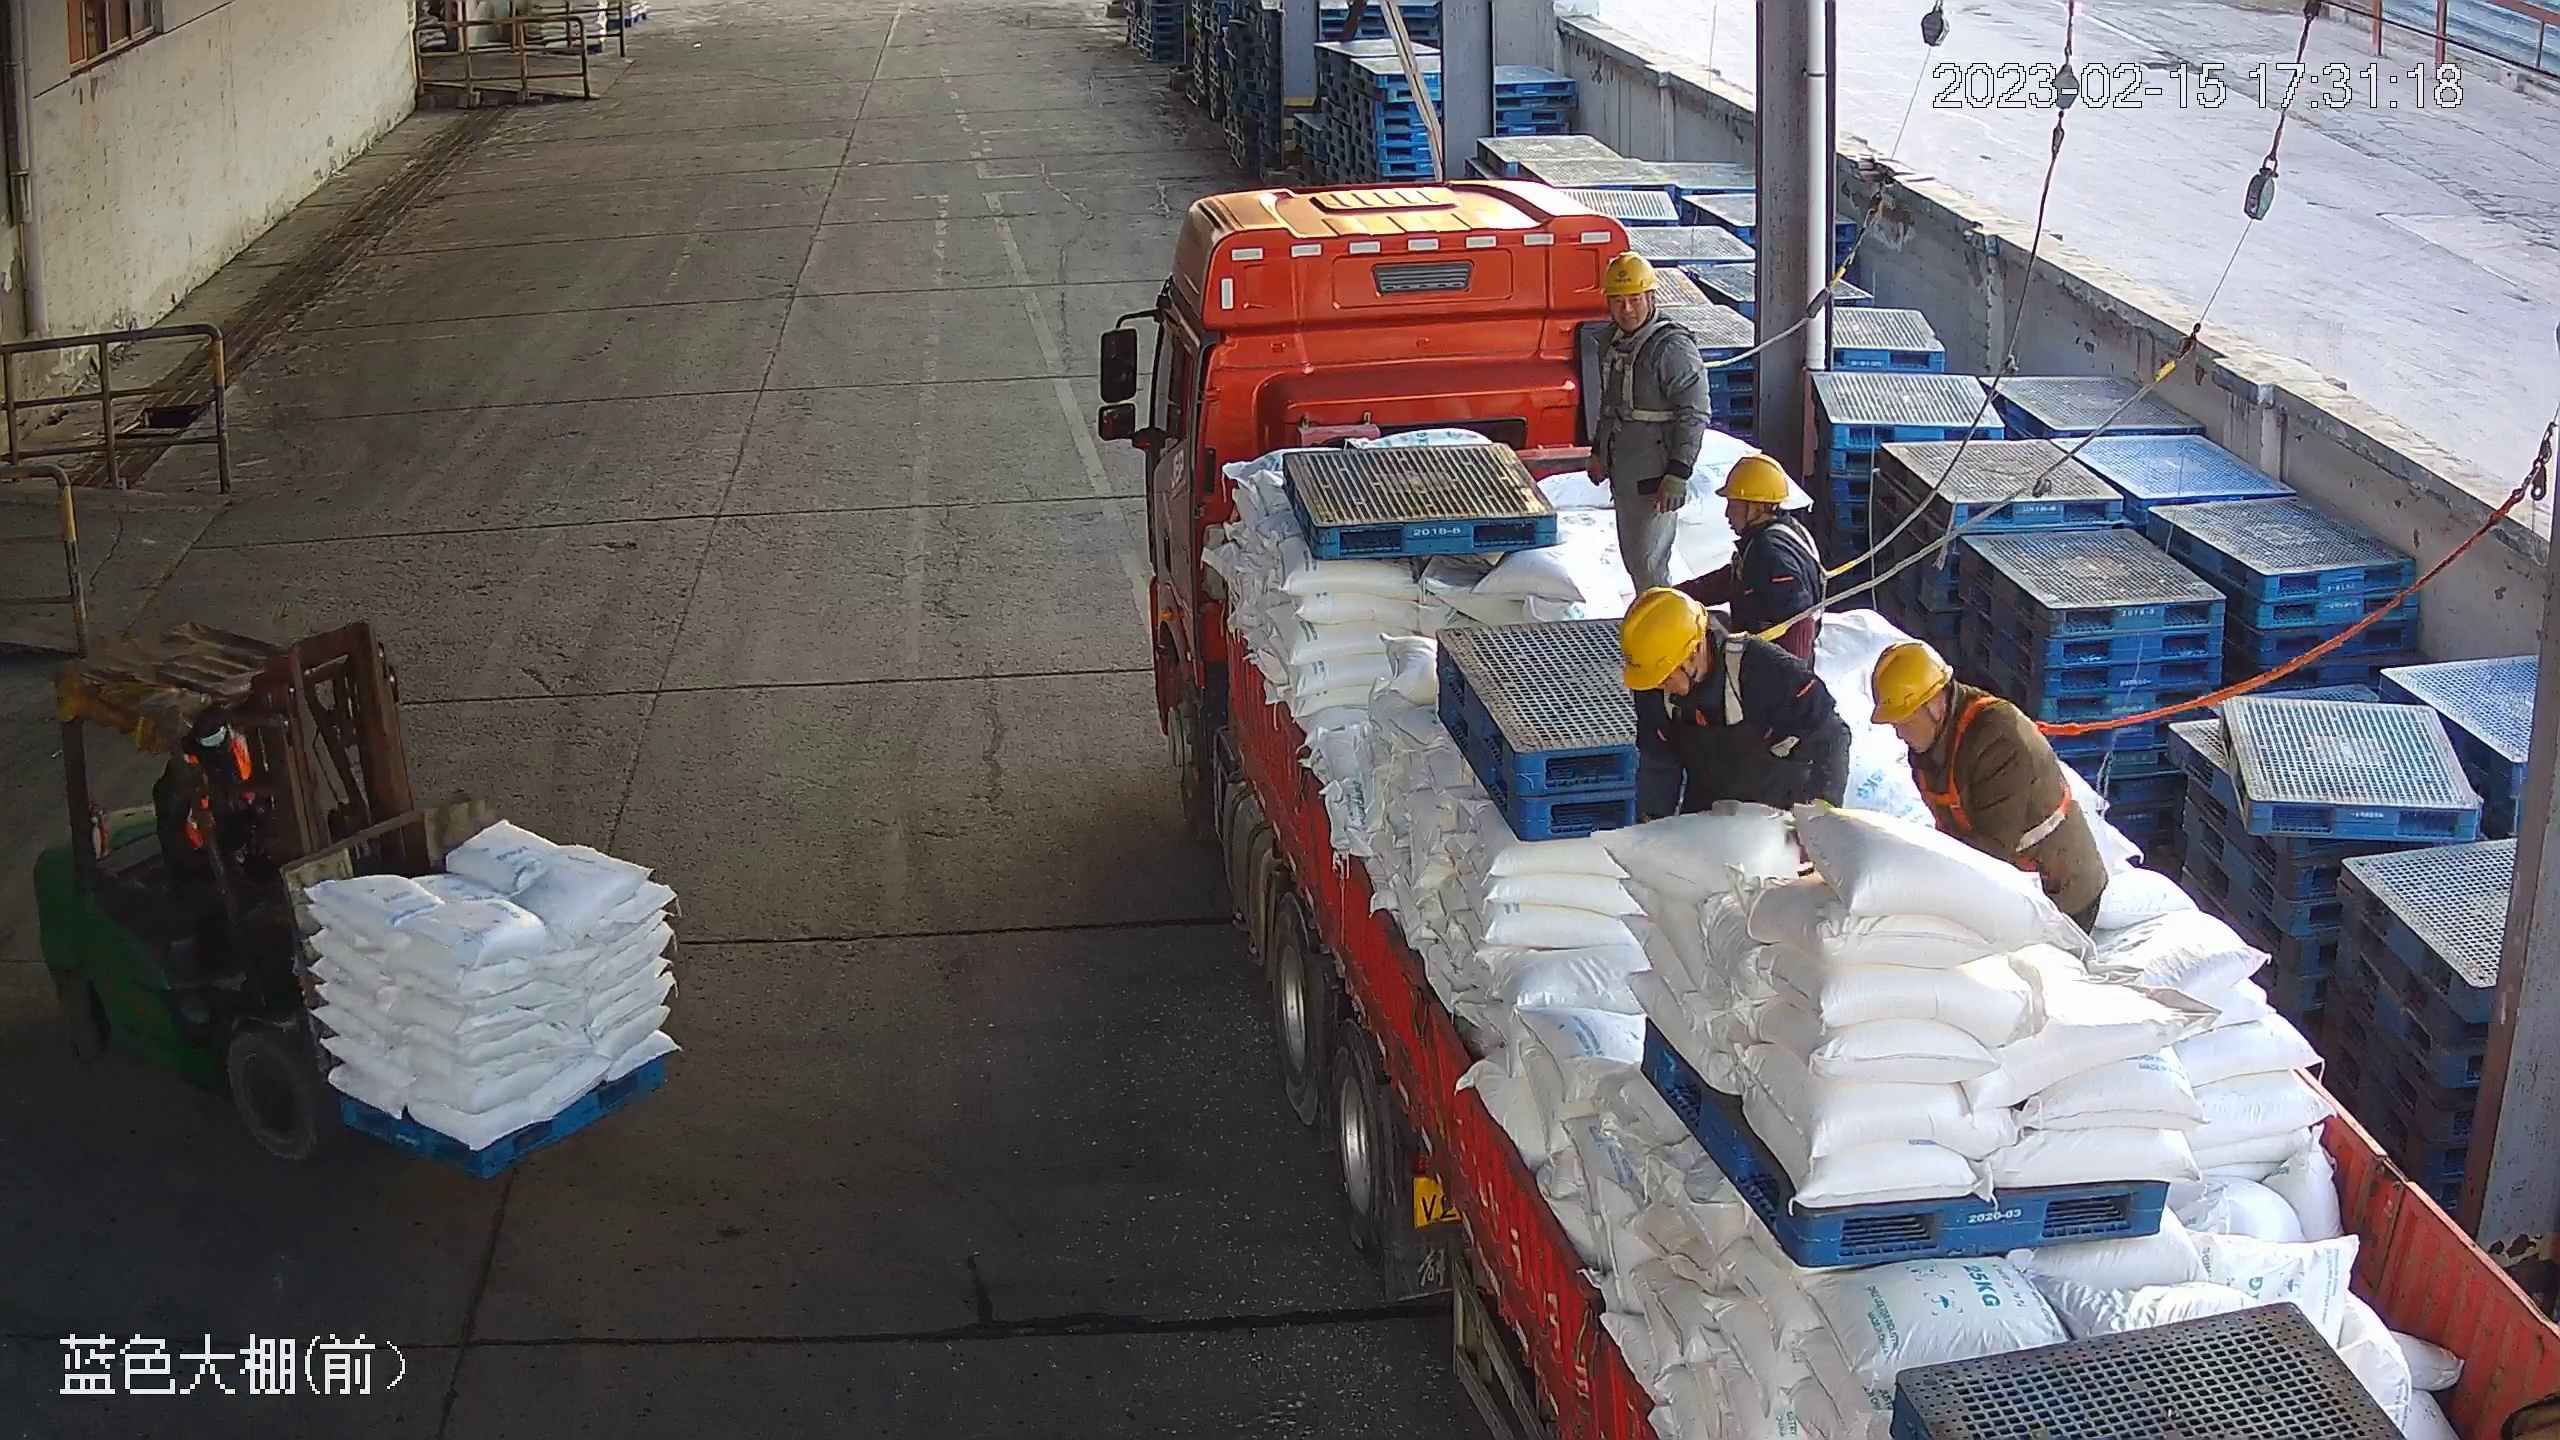belt: (1905, 695, 2094, 836), (1643, 628, 1804, 726), (1598, 310, 1729, 425), (1720, 516, 1867, 593)
head: (1618, 584, 1837, 717), (1869, 634, 2064, 772), (1595, 249, 1705, 375), (1712, 453, 1822, 565)
helmet: (1621, 586, 1708, 691), (1868, 638, 1958, 726), (1713, 455, 1792, 505), (1601, 250, 1660, 296)
people: (1866, 635, 2110, 944), (1620, 582, 1853, 828), (1585, 250, 1712, 602), (1671, 454, 1827, 679)
truck: (1140, 175, 2560, 1440)
